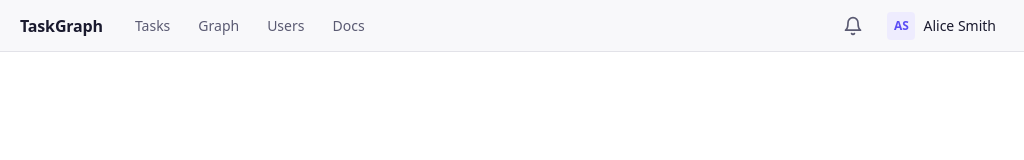
it: Statusbar › closes dropdown on Escape
The image size is (1024, 160).
Click the button with aria-label "user menu" at (942, 26), box [880, 8, 1004, 44]
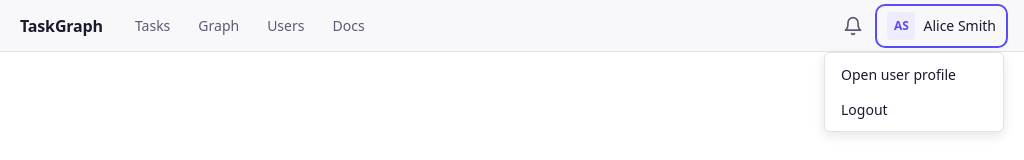
Check: the menu is shown, box [824, 52, 1004, 132]
Press Escape
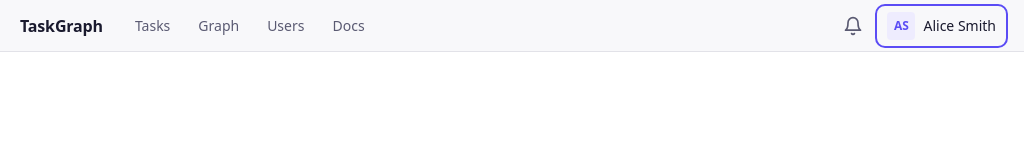
Check: the menu is gone
